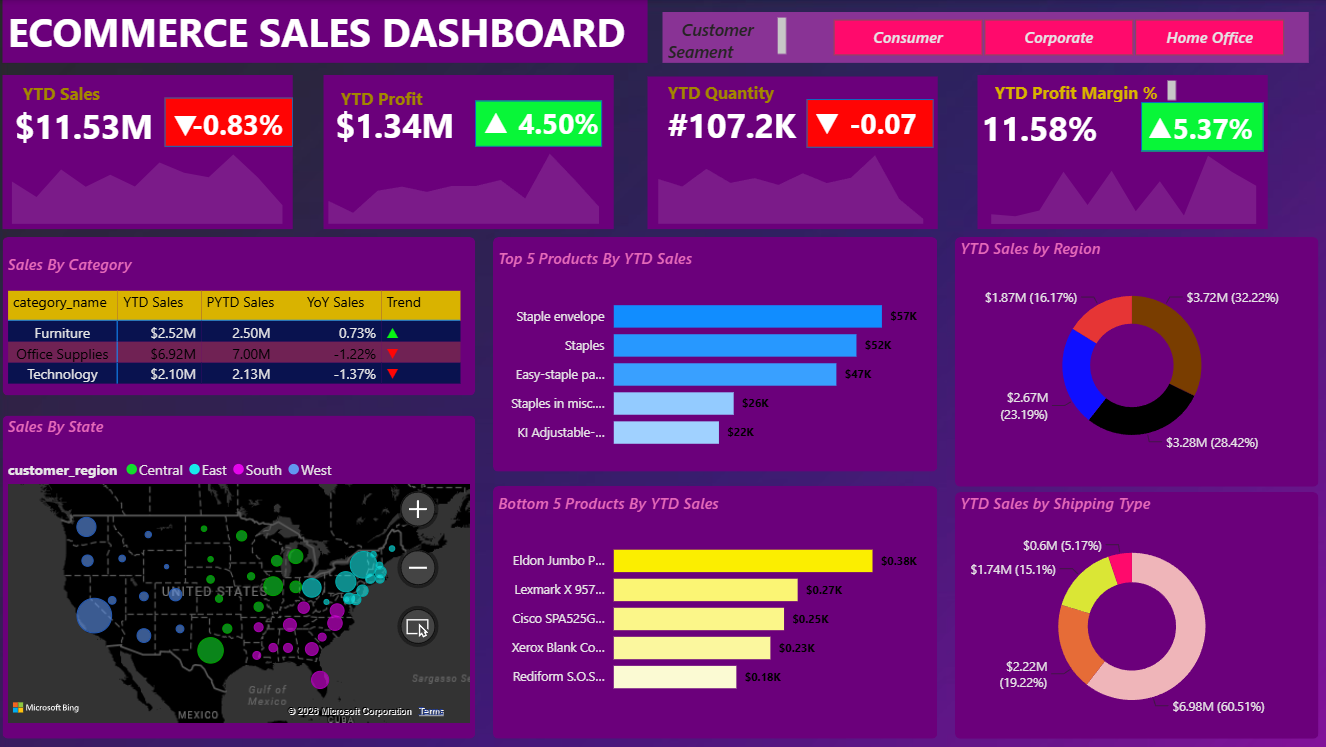

Layout of this report page (visuals, bound fields, positions):
{"tool":"powerbi","page":{"name":"Page 1","canvas":[1280,720],"ordinal":0},"visuals":[{"type":"shape","box":[10,397.1,451.4,308.6],"z":0},{"type":"shape","box":[941.4,71.4,277.1,147.1],"z":1000},{"type":"card","fields":{"Values":["ecommerce_data.Qty Icon"]},"box":[1097.1,101.4,38.5,36.5],"z":2000},{"type":"shape","box":[1097.1,97.1,117.1,47.1],"z":3000},{"type":"shape","box":[625.7,72.9,277.1,145.7],"z":4000},{"type":"textbox","box":[10,0,615.7,60],"z":5000},{"type":"shape","box":[10,71.4,277.1,147.1],"z":6000},{"type":"card","fields":{"Values":["ecommerce_data.YTD Sales"]},"box":[10,75.7,154.3,88.6],"z":7000},{"type":"areaChart","fields":{"Y":["Sum(ecommerce_data.sales_per_order)"],"Category":["Calendar.Month"]},"box":[4.3,121.4,287.1,97.1],"z":8000},{"type":"map","title":" Sales By State","fields":{"Y":["us_state_long_lat_codes.latitude"],"X":["us_state_long_lat_codes.longitude"],"Size":["ecommerce_data.YTD Sales"],"Series":["ecommerce_data.customer_region"]},"box":[10,397.1,451.4,298.6],"z":9000},{"type":"shape","box":[164.3,92.9,122.9,47.1],"z":10000},{"type":"card","fields":{"Values":["ecommerce_data.YoY Sales"]},"box":[184.3,75.7,98.6,87.1],"z":11000},{"type":"card","fields":{"Values":["ecommerce_data.Sales Icon"]},"box":[164.3,98.6,39,42.3],"z":12000},{"type":"textbox","box":[24.3,70.9,113.4,42.5],"z":13000},{"type":"shape","box":[317.1,71.4,277.1,147.1],"z":14000},{"type":"card","fields":{"Values":["ecommerce_data.YTD Profit"]},"box":[287.1,72.9,195.2,92.7],"z":15000},{"type":"shape","box":[461.4,95.7,121.4,44.3],"z":16000},{"type":"card","fields":{"Values":["ecommerce_data.YoY Profit"]},"box":[491.4,74.3,98.6,87.1],"z":17000},{"type":"card","fields":{"Values":["ecommerce_data.Profit Icon"]},"box":[461.4,95.7,39,42.3],"z":18000},{"type":"textbox","box":[328.6,77.1,254.3,42.9],"z":19000},{"type":"areaChart","fields":{"Category":["Calendar.Month"],"Y":["Sum(ecommerce_data.profit_per_order)"]},"box":[307.1,130,287.1,88.6],"z":20000},{"type":"card","fields":{"Values":["ecommerce_data.YTD Concatinated Qty"]},"box":[608.6,72.9,194.4,93.2],"z":21000},{"type":"card","fields":{"Values":["ecommerce_data.YoY Profit Margin"]},"box":[1115.7,78.6,99.2,87.8],"z":22000},{"type":"textbox","box":[640,71.4,421.4,58.6],"z":23000},{"type":"areaChart","fields":{"Category":["Calendar.Month"],"Y":["Sum(ecommerce_data.order_quantity)"]},"box":[621.4,130,281.4,88.6],"z":24000},{"type":"shape","box":[777.1,94.3,121.5,46.6],"z":25000},{"type":"card","fields":{"Values":["ecommerce_data.YoY Qty"]},"box":[800,74.3,99.2,87.8],"z":26000},{"type":"card","fields":{"Values":["ecommerce_data.Qty Icon"]},"box":[777.1,100,38.5,36.5],"z":27000},{"type":"textbox","box":[952.9,71.4,182.9,30],"z":28000},{"type":"areaChart","fields":{"Category":["Calendar.Month"],"Y":["ecommerce_data.Profit Margin"]},"box":[940,122.9,281.4,95.7],"z":29000},{"type":"card","fields":{"Values":["ecommerce_data.YTD Profit Margin"]},"box":[902.9,80,194.3,84.3],"z":30000},{"type":"card","fields":{"Values":["ecommerce_data.Profit Margin Icon"]},"box":[1090,97.1,50,50],"z":31000},{"type":"shape","box":[478.6,464.3,424.3,241.4],"z":32000},{"type":"shape","box":[920,470,347.1,235.7],"z":33000},{"type":"shape","box":[920,225.7,347.1,238.6],"z":34000},{"type":"shape","box":[478.6,225.7,424.3,224.3],"z":35000},{"type":"shape","box":[10,225.7,451.4,151.4],"z":36000},{"type":"pivotTable","title":"Sales By Category ","fields":{"Rows":["ecommerce_data.category_name"],"Values":["ecommerce_data.YTD Sales","ecommerce_data.PYTD Sales","ecommerce_data.YoY Sales","ecommerce_data.Trend"]},"box":[10,235.7,451.4,178.6],"z":37000},{"type":"barChart","title":"Top 5 Products By YTD Sales ","fields":{"Y":["ecommerce_data.YTD Sales"],"Category":["ecommerce_data.product_name"]},"box":[478.6,235.7,410,204.3],"z":37001},{"type":"barChart","title":"Bottom 5 Products By YTD Sales ","fields":{"Y":["ecommerce_data.YTD Sales"],"Category":["ecommerce_data.product_name"]},"box":[478.6,470,410,204.3],"z":37002},{"type":"donutChart","title":"YTD Sales by Region","fields":{"Category":["ecommerce_data.customer_region"],"Y":["ecommerce_data.YTD Sales"]},"box":[920,225.7,337.1,214.3],"z":37003},{"type":"donutChart","title":"YTD Sales by Shipping Type","fields":{"Category":["ecommerce_data.shipping_type"],"Y":["ecommerce_data.YTD Sales"]},"box":[920,470,337.1,225.7],"z":37004},{"type":"shape","box":[640,11.4,617.1,48.6],"z":37005},{"type":"slicer","fields":{"Values":["ecommerce_data.customer_segment"]},"box":[777.1,11.4,480,48.6],"z":37006},{"type":"textbox","box":[640,11.4,122.9,48.6],"z":37007}]}

Visuals, with their boxes in screenshot pixels (x1, y1, x2, y2), scaled from the page's 1280x720 canvas onto the 1326x747 screenshot:
shape: (10,412,478,732)
shape: (975,74,1262,227)
card - ecommerce_data.Qty Icon: (1137,105,1176,143)
shape: (1137,101,1258,150)
shape: (648,76,935,227)
textbox: (10,0,648,62)
shape: (10,74,297,227)
card - ecommerce_data.YTD Sales: (10,79,170,170)
areaChart - Sum(ecommerce_data.sales_per_order) x Calendar.Month: (4,126,302,227)
" Sales By State" map: (10,412,478,722)
shape: (170,96,298,145)
card - ecommerce_data.YoY Sales: (191,79,293,169)
card - ecommerce_data.Sales Icon: (170,102,211,146)
textbox: (25,74,143,118)
shape: (328,74,616,227)
card - ecommerce_data.YTD Profit: (297,76,500,172)
shape: (478,99,604,145)
card - ecommerce_data.YoY Profit: (509,77,611,167)
card - ecommerce_data.Profit Icon: (478,99,518,143)
textbox: (340,80,604,125)
areaChart - Calendar.Month x Sum(ecommerce_data.profit_per_order): (318,135,616,227)
card - ecommerce_data.YTD Concatinated Qty: (630,76,832,172)
card - ecommerce_data.YoY Profit Margin: (1156,82,1259,173)
textbox: (663,74,1100,135)
areaChart - Calendar.Month x Sum(ecommerce_data.order_quantity): (644,135,935,227)
shape: (805,98,931,146)
card - ecommerce_data.YoY Qty: (829,77,932,168)
card - ecommerce_data.Qty Icon: (805,104,845,142)
textbox: (987,74,1177,105)
areaChart - Calendar.Month x ecommerce_data.Profit Margin: (974,128,1265,227)
card - ecommerce_data.YTD Profit Margin: (935,83,1137,170)
card - ecommerce_data.Profit Margin Icon: (1129,101,1181,153)
shape: (496,482,935,732)
shape: (953,488,1313,732)
shape: (953,234,1313,482)
shape: (496,234,935,467)
shape: (10,234,478,391)
"Sales By Category " pivotTable: (10,245,478,430)
"Top 5 Products By YTD Sales " barChart: (496,245,921,457)
"Bottom 5 Products By YTD Sales " barChart: (496,488,921,700)
"YTD Sales by Region" donutChart: (953,234,1302,457)
"YTD Sales by Shipping Type" donutChart: (953,488,1302,722)
shape: (663,12,1302,62)
slicer - ecommerce_data.customer_segment: (805,12,1302,62)
textbox: (663,12,790,62)
